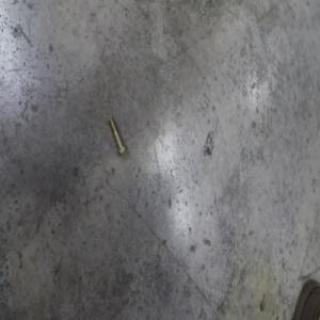Bolttrack_idkeyframe: (107, 112, 127, 156)
